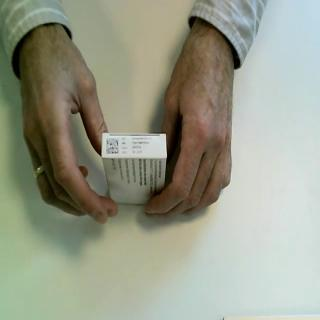oxycontin5mg: (101, 131, 169, 208)
